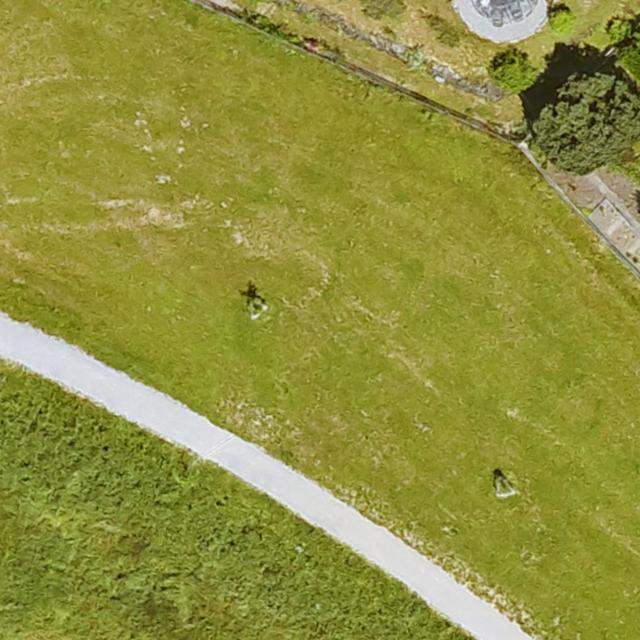tree: (532, 73, 639, 172)
